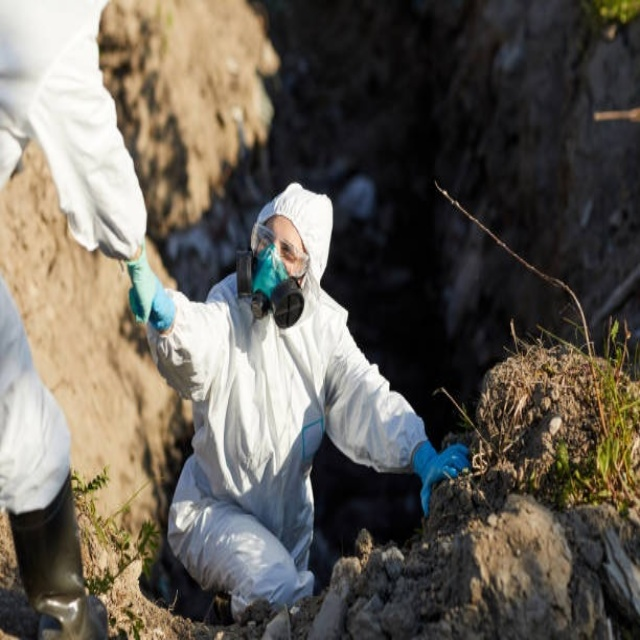Gafas: (253, 221, 310, 278)
Guantes: (119, 242, 177, 336), (411, 428, 472, 515)
Mascara: (234, 242, 303, 333)
